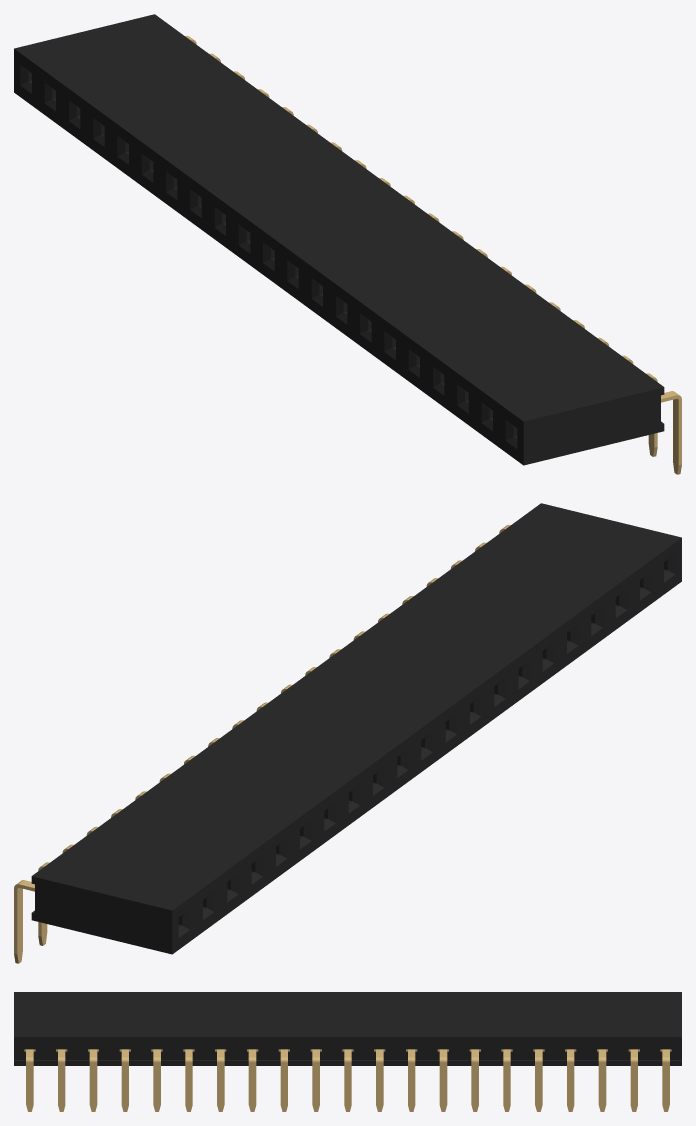
File: kc-pinsocket_1x21_p2.54mm_horizontal.glb
3 views of the same model, one above another, from view 1: azimuth 30°, elevation 25°; view 2: azimuth 150°, elevation 25°; view 3: azimuth 270°, elevation 25° (orthographic). The views are drawn at different scales.
Parts seen in each view (by area): view 1: 0_0_0_0, 0.75_0.5_0.25_0.9; view 2: 0_0_0_0, 0.75_0.5_0.25_0.9; view 3: 0_0_0_0, 0.75_0.5_0.25_0.9.
Part boxes in pixels (x1,y1,x2,y2): 0_0_0_0: (14,14,664,465); 0.75_0.5_0.25_0.9: (185,36,681,474); 0_0_0_0: (31,503,681,954); 0.75_0.5_0.25_0.9: (14,525,510,963); 0_0_0_0: (14,992,681,1065); 0.75_0.5_0.25_0.9: (24,1049,671,1111).
Size of the model in its own units: 1.01 by 0.584 by 5.33.
